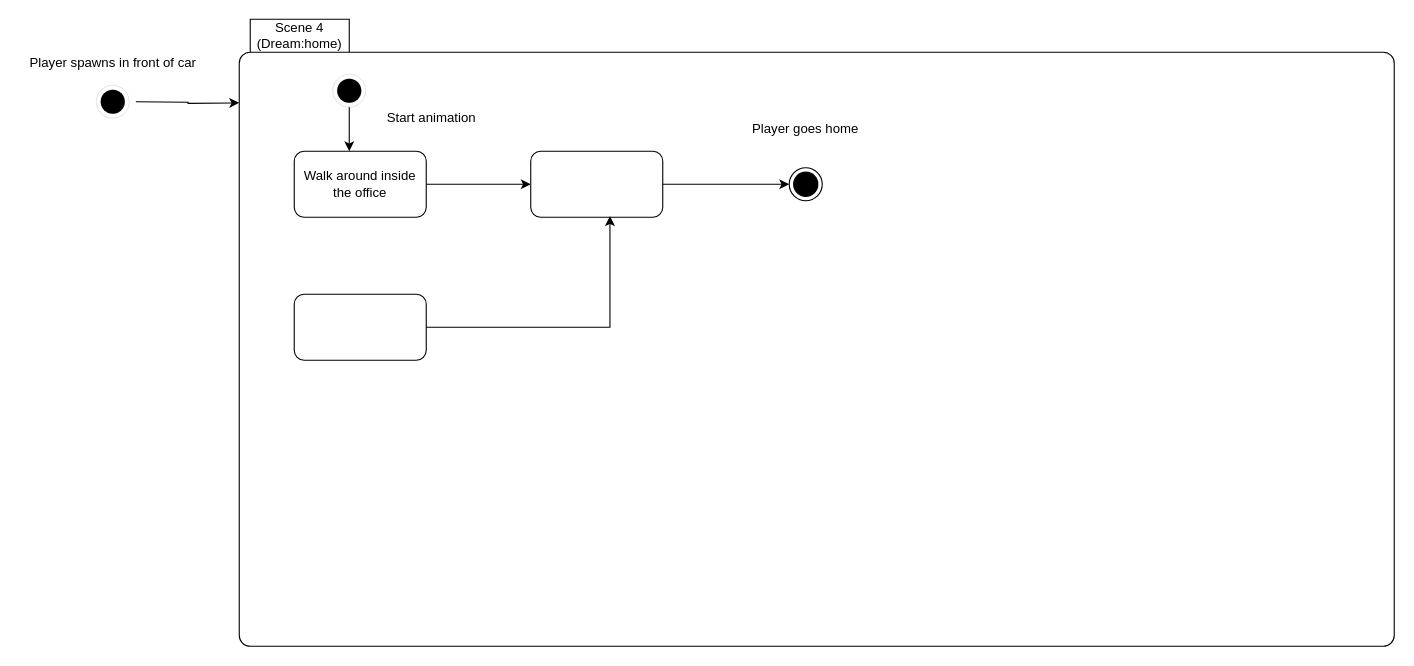
The diagram is 1414 pixels wide and 666 high, and some of its shapes have lost their labels. The box of each missing label's shape, as (x1, y1, x2, y2) in pixels:
Go to elevator and leave: (530, 150, 663, 217)
Player checks out: (293, 293, 426, 360)
